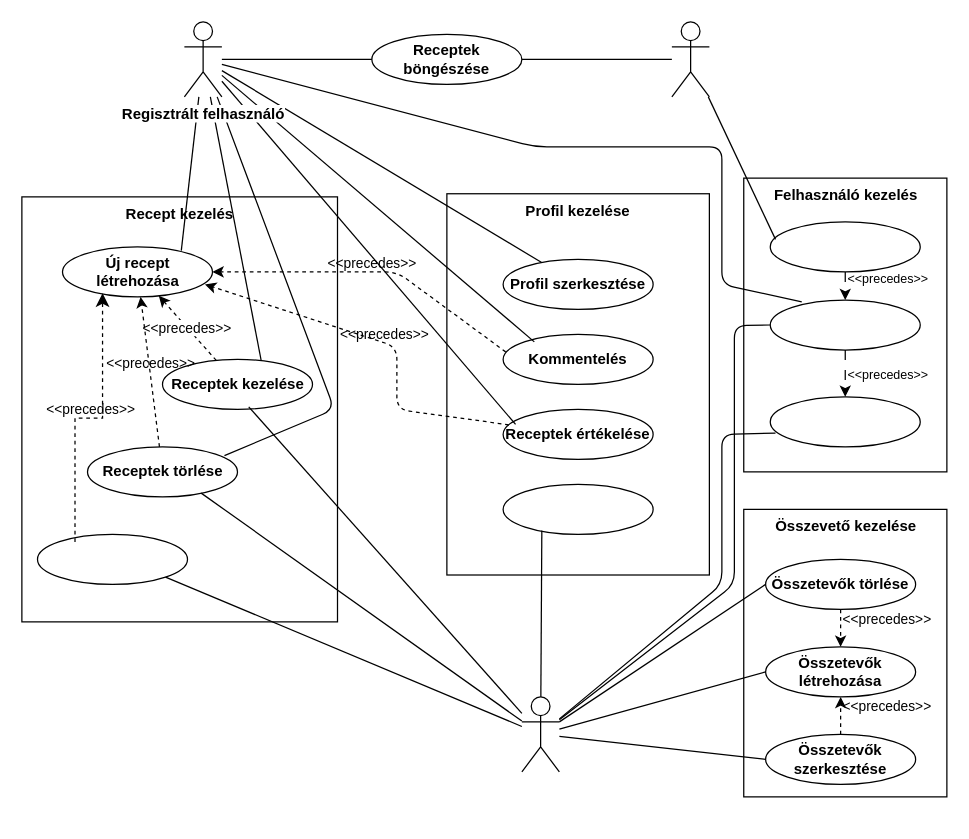
This 969x839 diagram has some shape labels left out. The shapes that lost their labels are listed below. From the top down, each one's box as (x1, y1, x2, y2) in pixels, then its label:
(671, 21, 709, 97): Nem regisztrált felhasználó
(769, 221, 920, 272): Regisztráció
(769, 299, 920, 350): Bejelentkezés
(769, 396, 920, 447): Regisztráció törlése
(502, 483, 653, 534): Kommentek törlése
(36, 533, 188, 584): Kiemelt recept beállítása
(521, 696, 559, 772): Adminisztrátor
